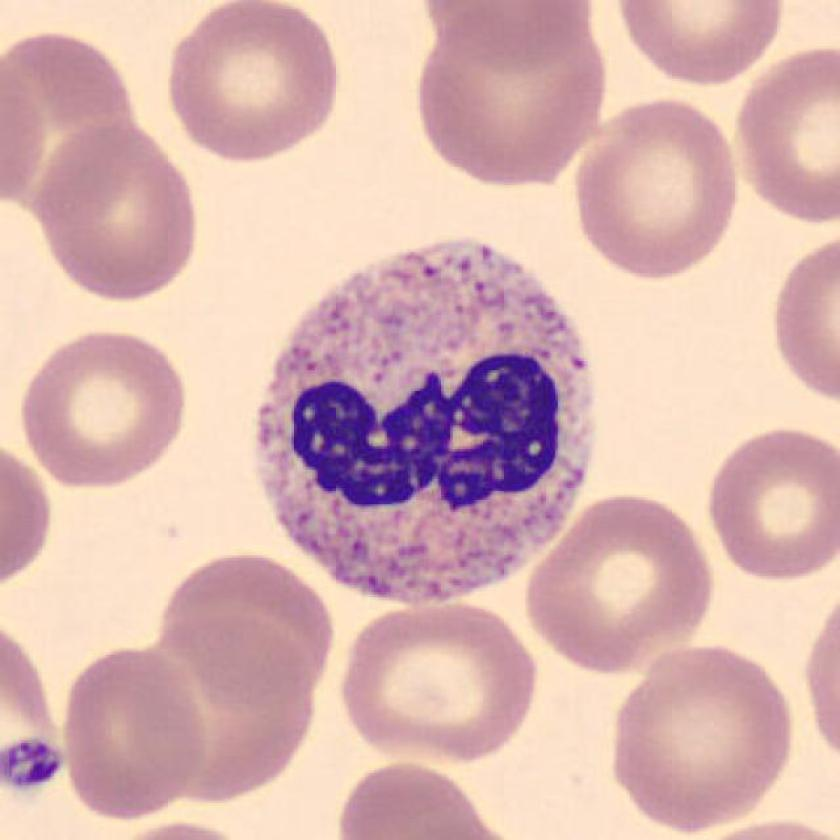neutrophil: (257, 240, 601, 603)
